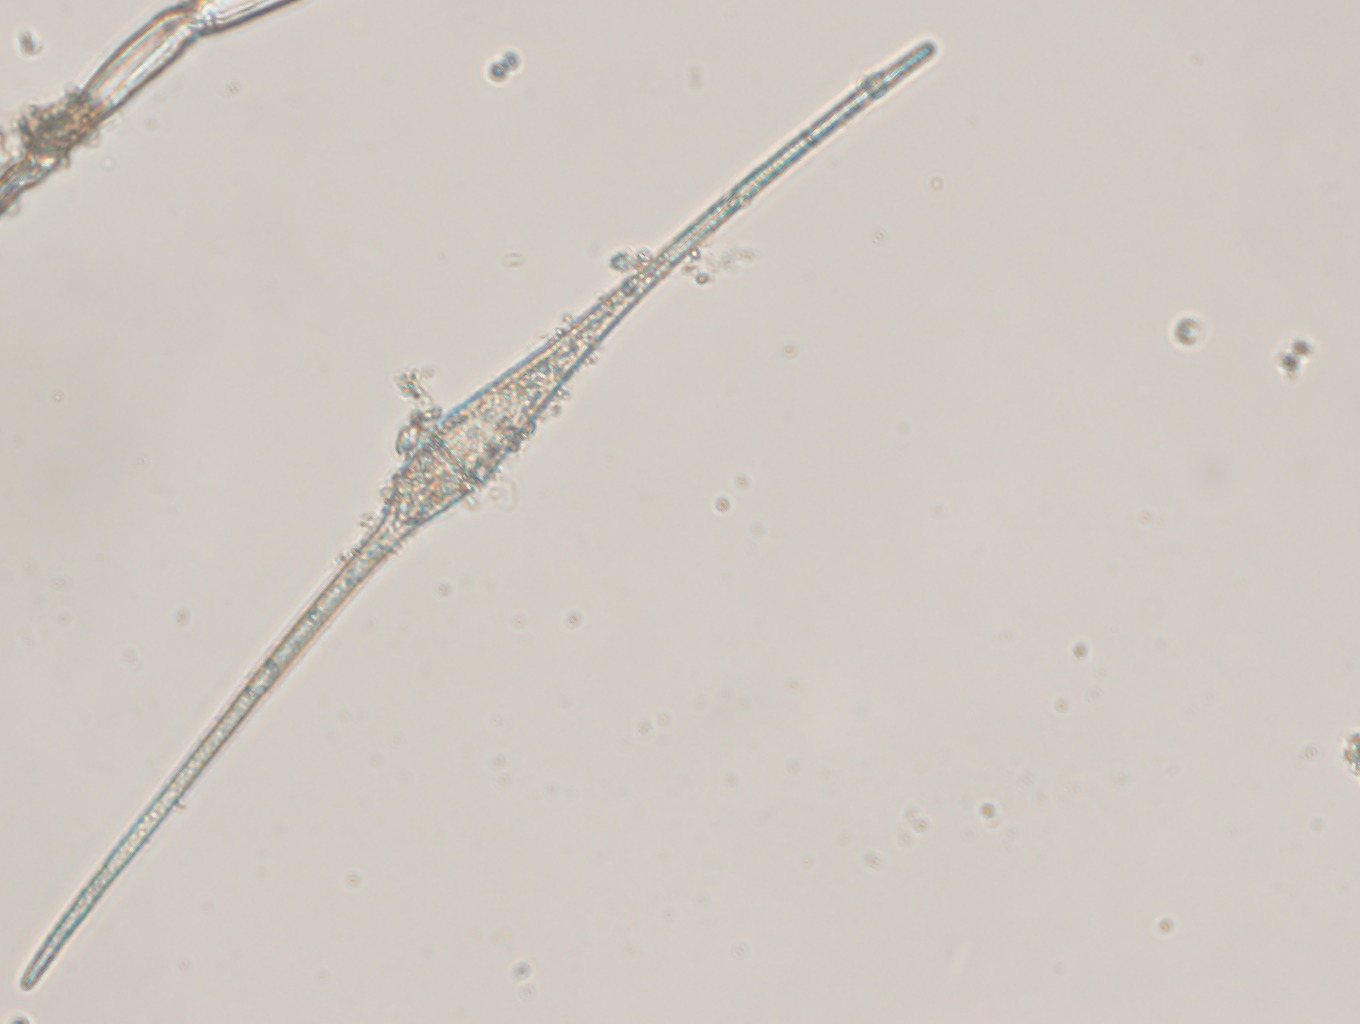ceratium fusus: (14, 39, 936, 997)
